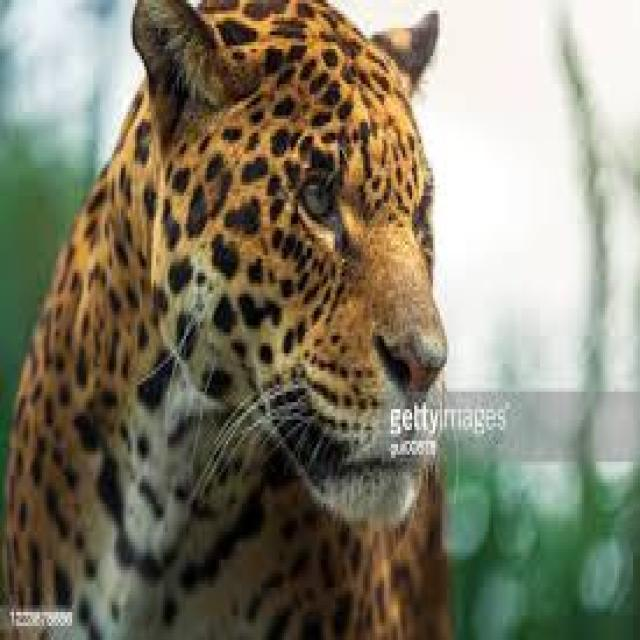Jaguar: (14, 0, 456, 640)
